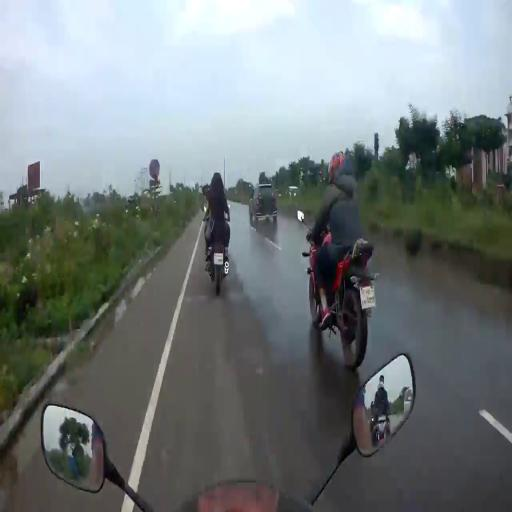motorbike: (294, 208, 379, 372), (201, 226, 232, 294)
suv: (247, 182, 281, 232)
